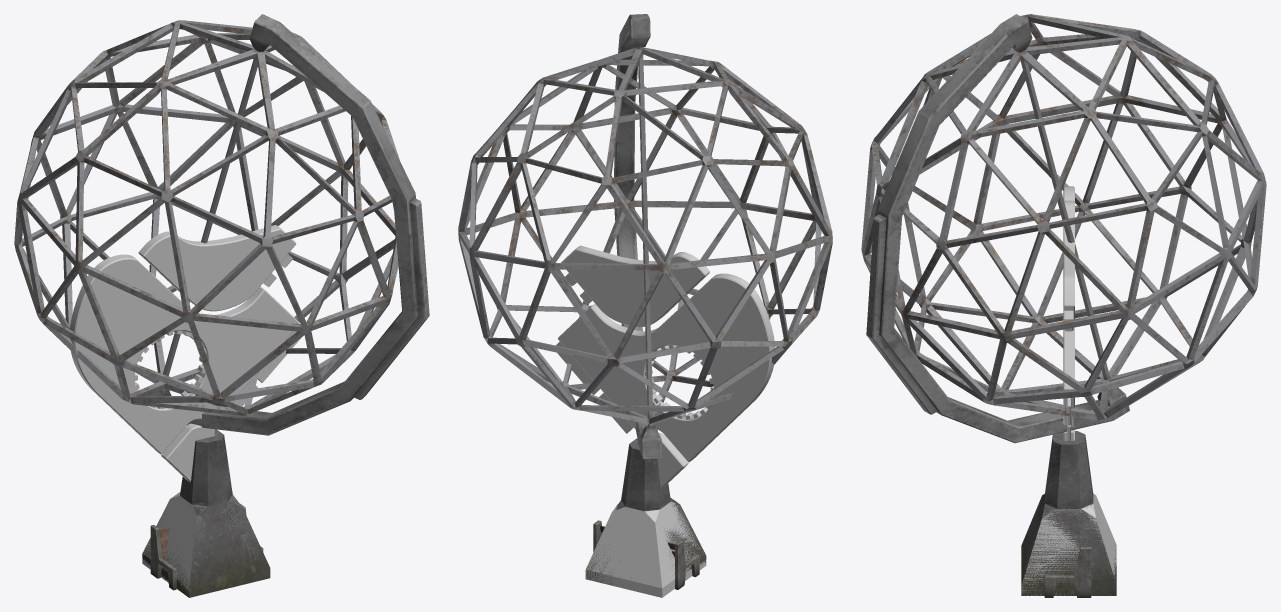
Rendered from uploads_files_2721372_Sculptures+and+bench_1.fbx.
3 views of the same model, side by side, from view 1: azimuth 30°, elevation 25°; view 2: azimuth 150°, elevation 25°; view 3: azimuth 270°, elevation 25° (orthographic). The views are drawn at different scales.
Visible parts, largest first — view 1: Sculpture_2, Sculpture_1, Bench; view 2: Sculpture_2, Sculpture_1, Bench; view 3: Sculpture_2, Sculpture_1, Bench.
Part boxes in pixels (left/top/right/bottom): Sculpture_2: left=14, top=14, right=429, bottom=597; Sculpture_1: left=70, top=225, right=300, bottom=593; Bench: left=150, top=503, right=263, bottom=590; Sculpture_2: left=458, top=14, right=832, bottom=584; Sculpture_1: left=556, top=245, right=775, bottom=597; Bench: left=593, top=520, right=699, bottom=589; Sculpture_2: left=861, top=14, right=1266, bottom=595; Sculpture_1: left=1021, top=186, right=1116, bottom=595; Bench: left=1044, top=545, right=1091, bottom=597.
Bounding box in the file's own units: 770 × 1241 × 795.
